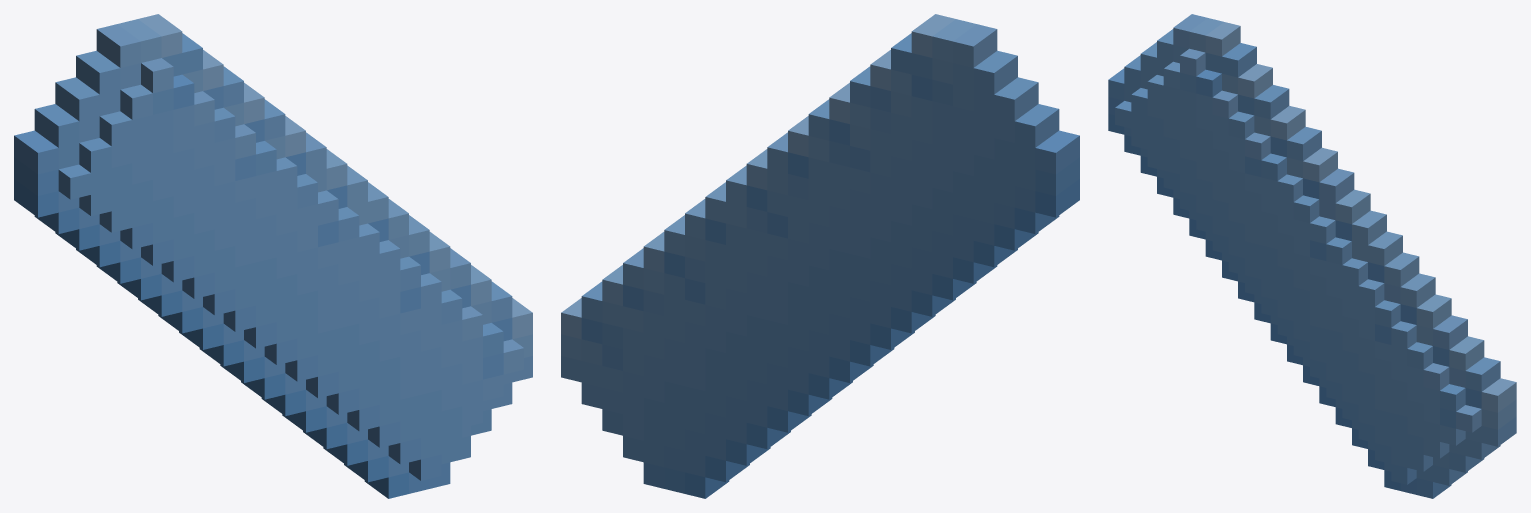
File: ruler-blue.glb
3 views of the same model, side by side, from view 1: azimuth 30°, elevation 25°; view 2: azimuth 150°, elevation 25°; view 3: azimuth 330°, elevation 25° (orthographic). The views are drawn at different scales.
Parts seen in each view (by area): view 1: prop; view 2: prop; view 3: prop.
Part boxes in pixels (box(x1,y1,x2,y2)): prop: box(14, 14, 532, 498); prop: box(561, 14, 1079, 498); prop: box(1108, 14, 1516, 498).
Size of the model in its own units: 16 by 16 by 2.
